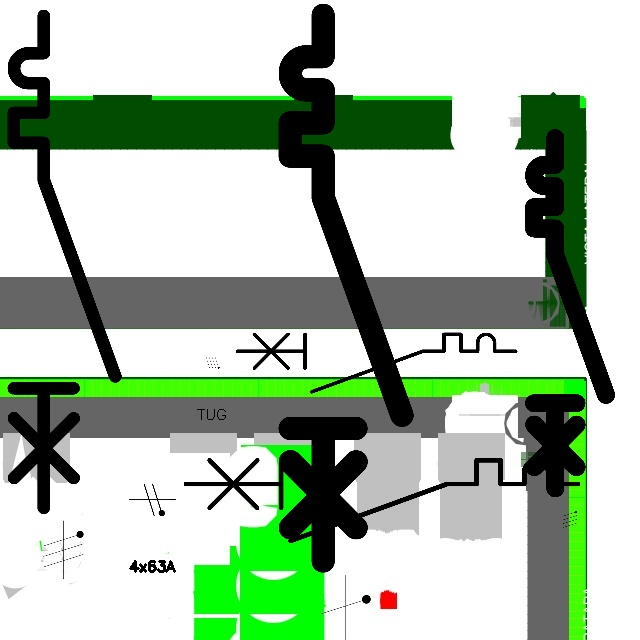interruptor_termomagnetico: (276, 1, 416, 575), (1, 3, 127, 520), (175, 450, 588, 551), (525, 129, 615, 498), (230, 327, 523, 398)
